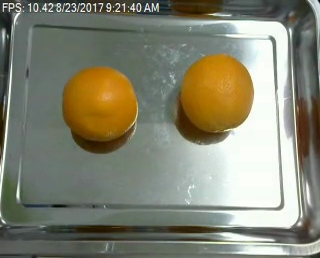Orange: (178, 52, 253, 132), (62, 66, 139, 142)
